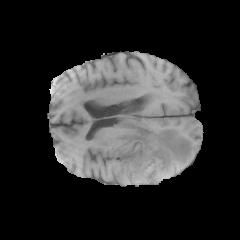glioma: (117, 127, 191, 184)
